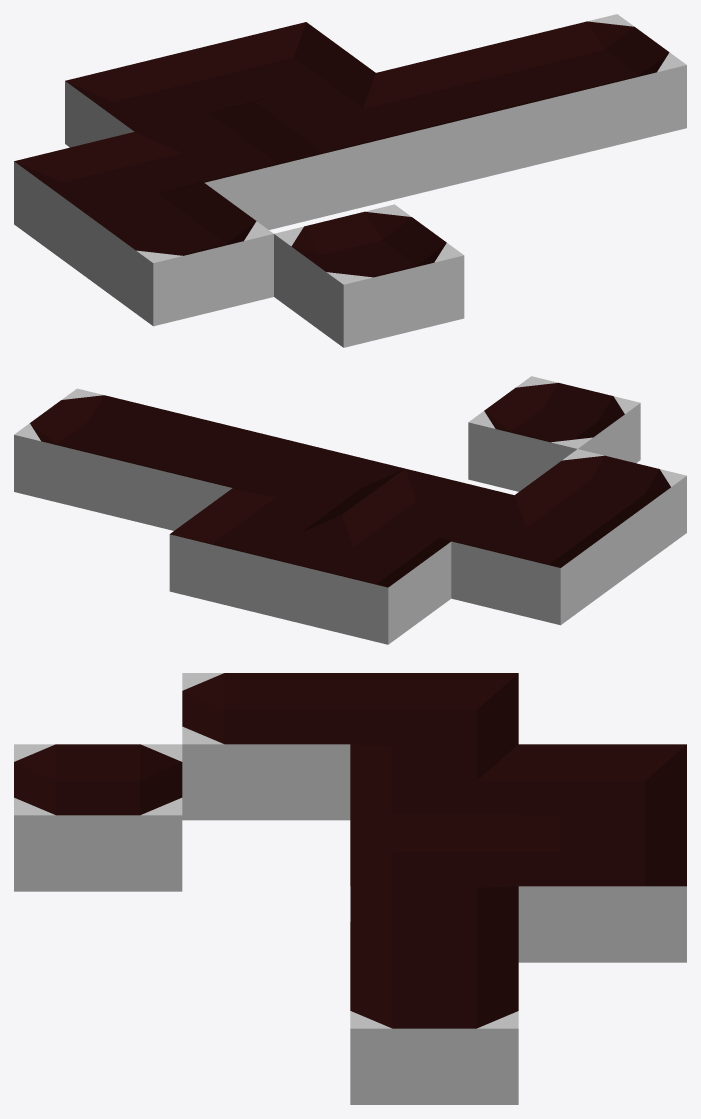
The model's file is 20f_path.obj.
The picture shows the model from 3 angles, top to bottom: view 1: azimuth 30°, elevation 25°; view 2: azimuth 150°, elevation 25°; view 3: azimuth 270°, elevation 25°; orthographic projection. The views are drawn at different scales.
Parts seen in each view (by area): view 1: foil.hole.1.0_Cube.191, foil.ending.0.1_ending.379, foil.ending.4.2_ending.380, foil.through.3.2_through.191, foil.corner.2.2_corner.948, foil.corner.0.2_corner.945, foil.corner.1.2_corner.946, foil.corner.1.3_corner.947, foil.corner.2.3_corner.949; view 2: foil.corner.1.3_corner.947, foil.corner.0.2_corner.945, foil.ending.4.2_ending.380, foil.hole.1.0_Cube.191, foil.corner.2.3_corner.949, foil.ending.0.1_ending.379, foil.through.3.2_through.191, foil.corner.1.2_corner.946, foil.corner.2.2_corner.948; view 3: foil.hole.1.0_Cube.191, foil.ending.0.1_ending.379, foil.corner.2.3_corner.949, foil.ending.4.2_ending.380, foil.corner.2.2_corner.948, foil.corner.1.3_corner.947, foil.corner.0.2_corner.945, foil.through.3.2_through.191, foil.corner.1.2_corner.946.
Part boxes in pixels (x1=…): foil.hole.1.0_Cube.191: x1=274, y1=204, x2=464, y2=347; foil.ending.0.1_ending.379: x1=83, y1=183, x2=273, y2=326; foil.ending.4.2_ending.380: x1=497, y1=14, x2=686, y2=157; foil.through.3.2_through.191: x1=376, y1=43, x2=566, y2=186; foil.corner.2.2_corner.948: x1=256, y1=73, x2=445, y2=216; foil.corner.0.2_corner.945: x1=14, y1=132, x2=203, y2=274; foil.corner.1.2_corner.946: x1=135, y1=102, x2=324, y2=229; foil.corner.1.3_corner.947: x1=65, y1=51, x2=254, y2=147; foil.corner.2.3_corner.949: x1=186, y1=22, x2=375, y2=110; foil.corner.1.3_corner.947: x1=279, y1=515, x2=451, y2=644; foil.corner.0.2_corner.945: x1=451, y1=495, x2=623, y2=625; foil.ending.4.2_ending.380: x1=14, y1=388, x2=186, y2=518; foil.hole.1.0_Cube.191: x1=468, y1=376, x2=640, y2=491; foil.corner.2.3_corner.949: x1=169, y1=488, x2=341, y2=617; foil.ending.0.1_ending.379: x1=515, y1=449, x2=686, y2=578; foil.through.3.2_through.191: x1=123, y1=415, x2=295, y2=530; foil.corner.1.2_corner.946: x1=342, y1=468, x2=514, y2=548; foil.corner.2.2_corner.948: x1=233, y1=442, x2=404, y2=522; foil.hole.1.0_Cube.191: x1=14, y1=744, x2=182, y2=891; foil.ending.0.1_ending.379: x1=182, y1=673, x2=350, y2=820; foil.corner.2.3_corner.949: x1=518, y1=815, x2=686, y2=962; foil.ending.4.2_ending.380: x1=350, y1=957, x2=518, y2=1104; foil.corner.2.2_corner.948: x1=350, y1=815, x2=518, y2=921; foil.corner.1.3_corner.947: x1=518, y1=744, x2=686, y2=834; foil.corner.0.2_corner.945: x1=350, y1=673, x2=518, y2=763; foil.through.3.2_through.191: x1=350, y1=886, x2=518, y2=976; foil.corner.1.2_corner.946: x1=350, y1=744, x2=518, y2=815.
Size of the model in its own units: 10 by 1 by 8.
